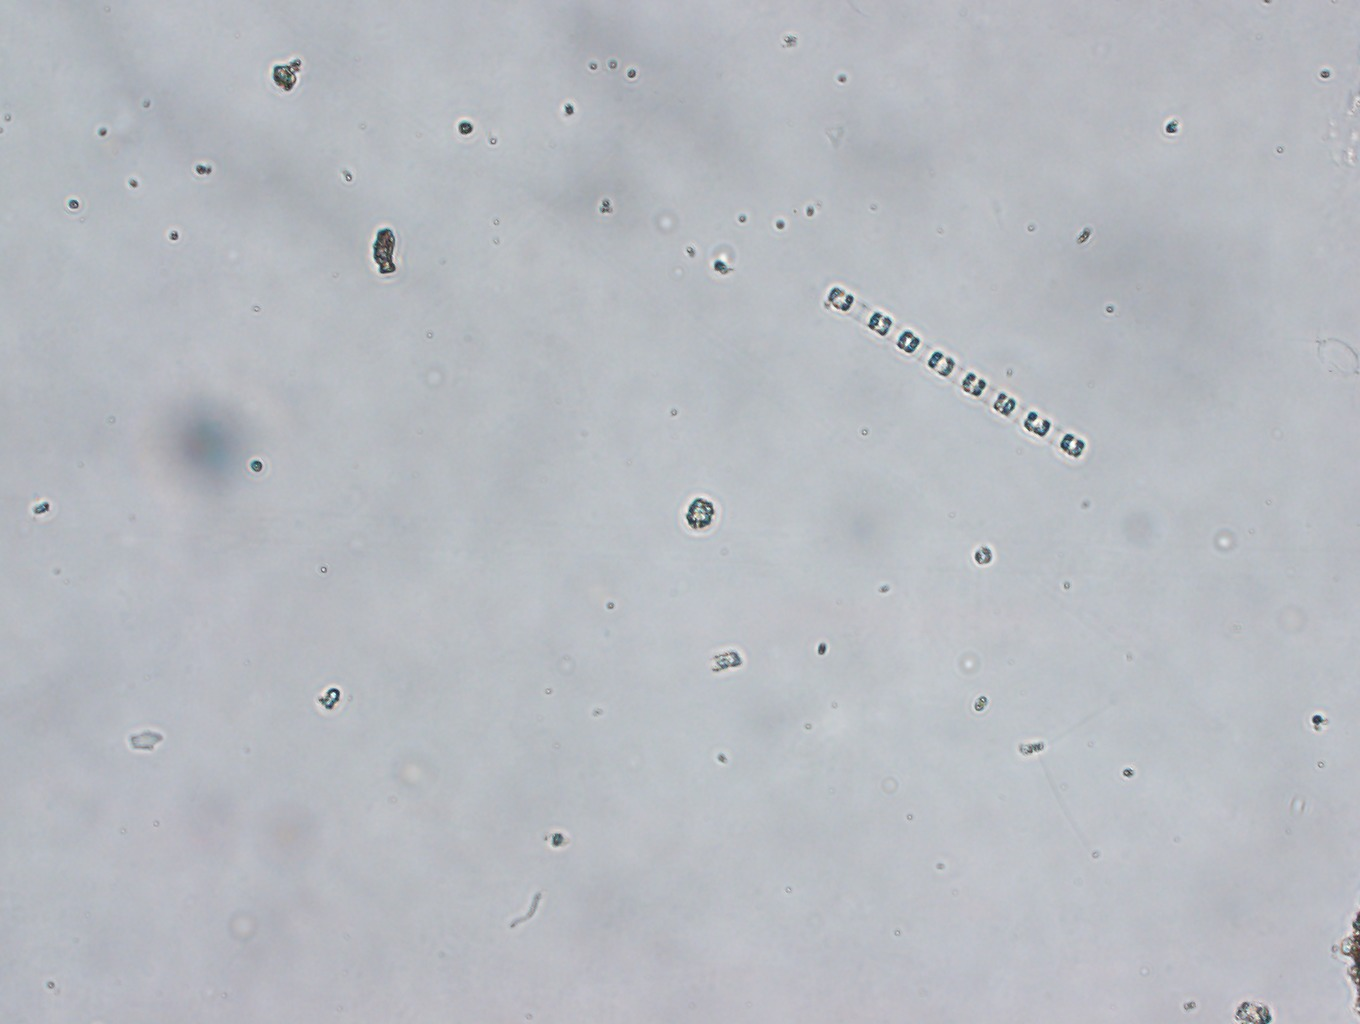skeletonema: (821, 283, 1092, 464)
